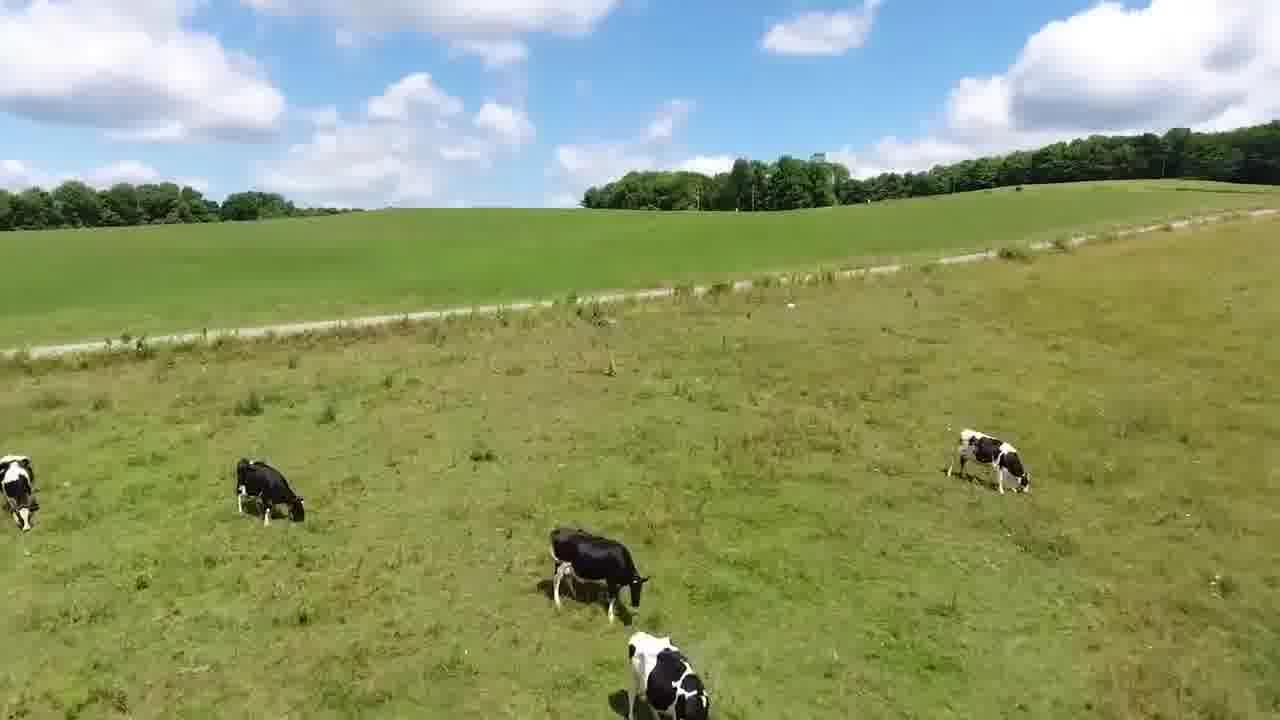cow: (547, 523, 649, 627), (616, 629, 717, 720), (943, 426, 1038, 501), (230, 449, 308, 528), (0, 446, 46, 537)
